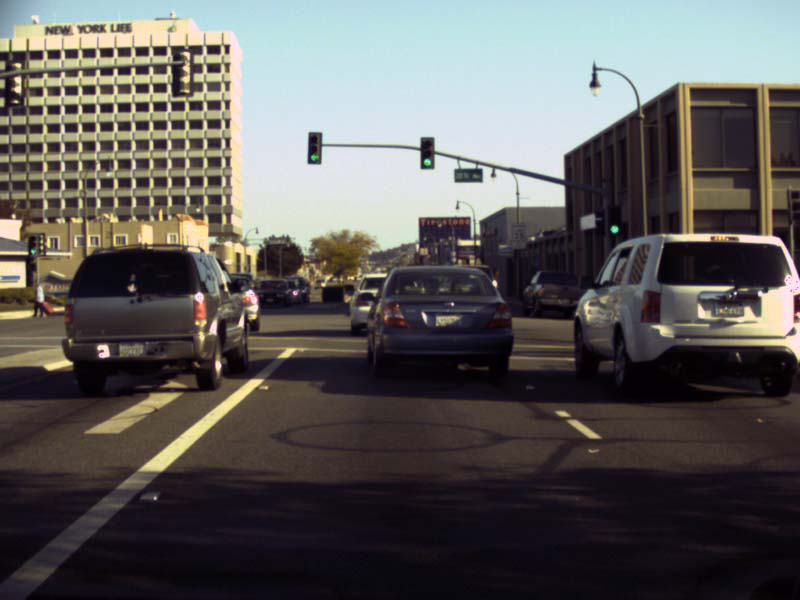Green: (308, 132, 321, 163), (420, 137, 433, 168), (608, 205, 620, 235), (28, 234, 38, 256)
